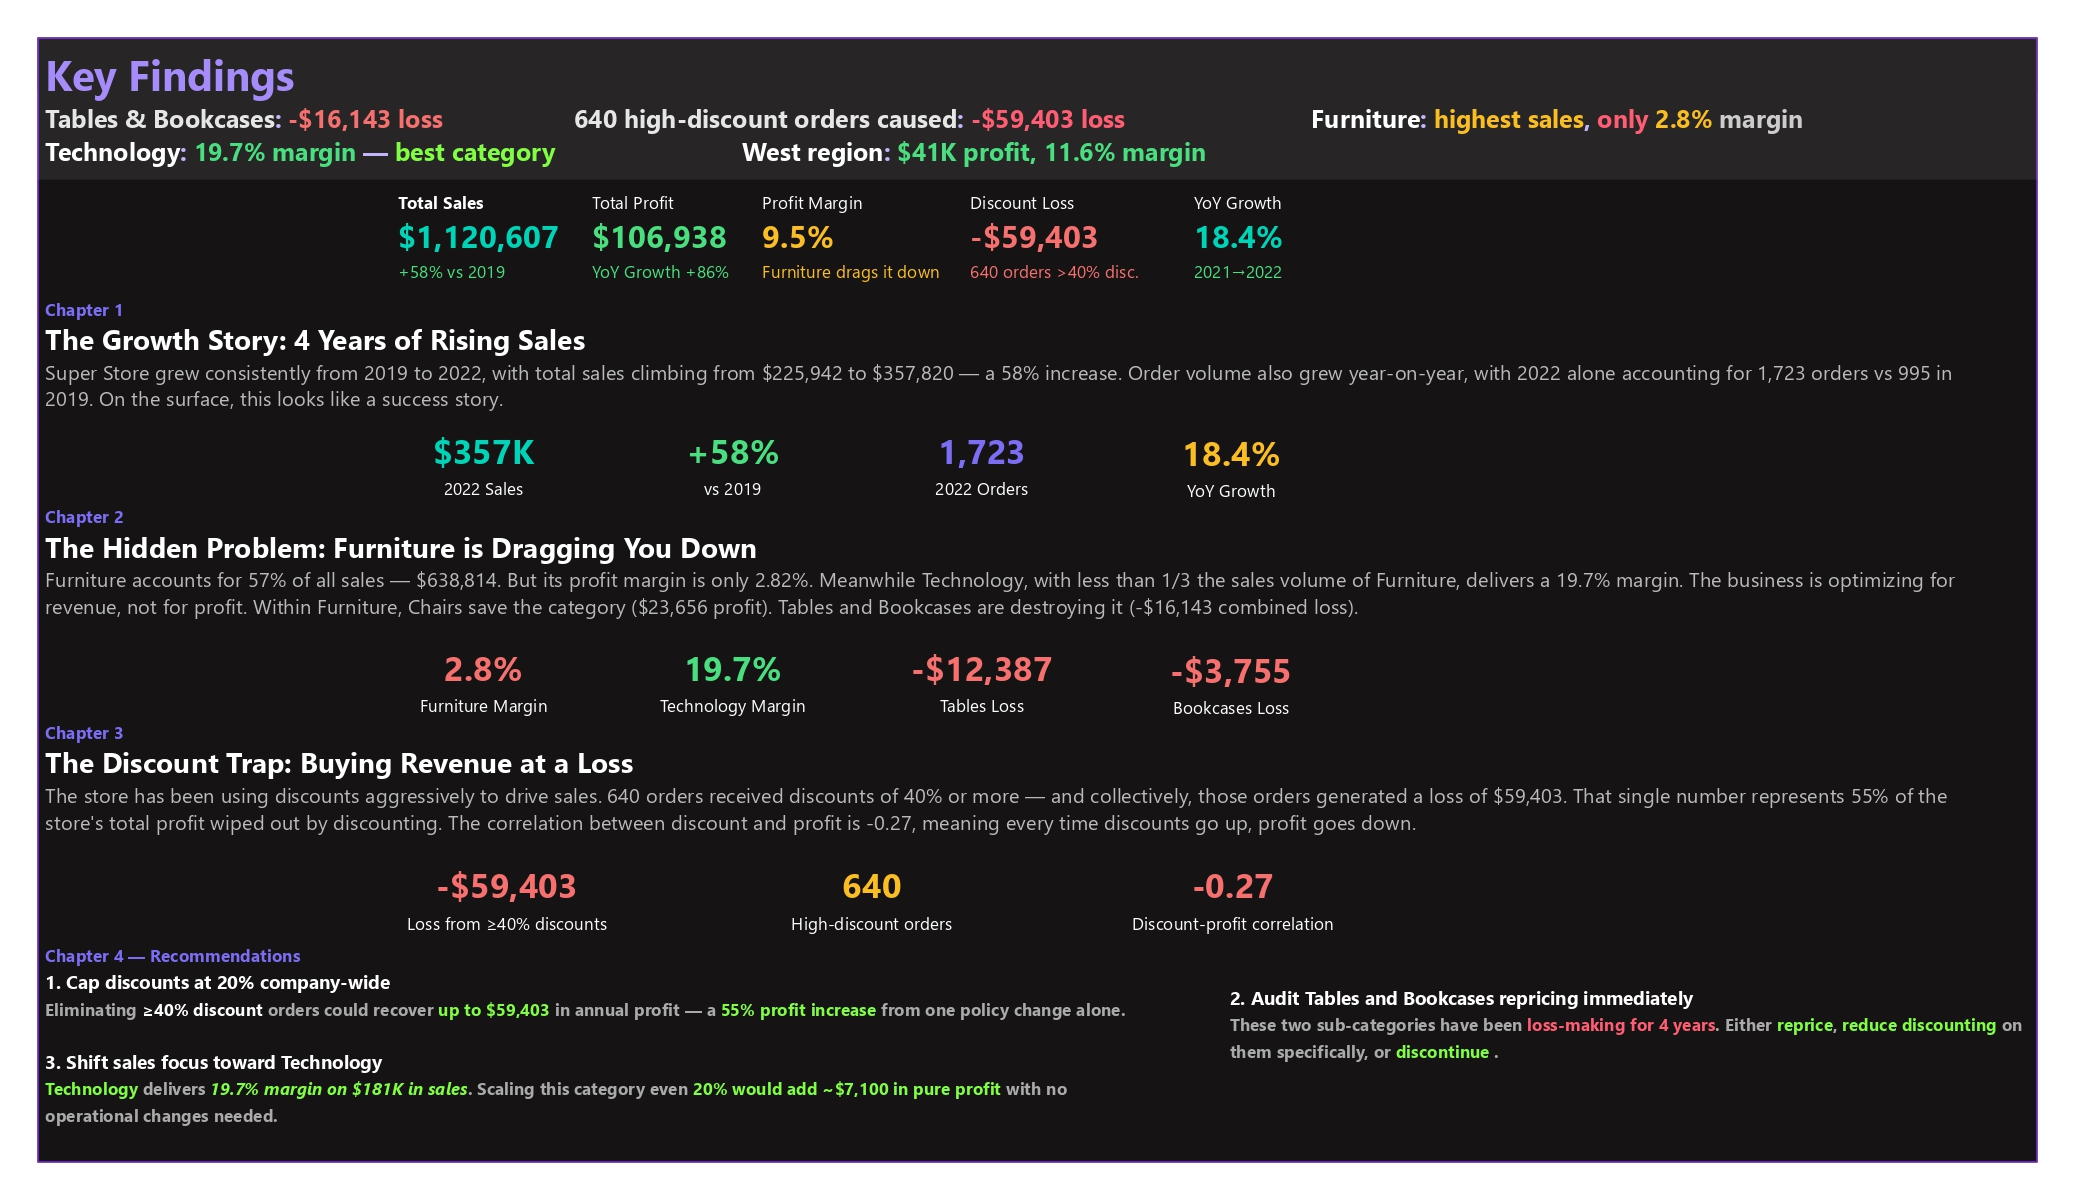

What the dashboard file says about the page in this screenshot:
{"tool":"powerbi","page":{"name":"Story telling","canvas":[1280,720],"ordinal":3},"visuals":[{"type":"textbox","box":[219.4,243.6,133.4,77],"z":0,"group":"g2"},{"type":"textbox","box":[219.4,383.3,133.4,77],"z":0,"group":"g3"},{"type":"textbox","box":[203.3,522.2,194.6,57.5],"z":0,"group":"g4"},{"type":"textbox","box":[0,573.1,714.6,146.9],"z":0,"group":"g1"},{"type":"group","id":"g1","title":"Group 3","box":[0,0,1279.7,720],"z":1000},{"type":"textbox","box":[225.7,91.3,133.4,77],"z":1000,"group":"g5"},{"type":"group","id":"g2","title":"Group 1","box":[219.4,243.6,611.6,77.9],"z":1000,"group":"g1"},{"type":"textbox","box":[378.8,243.6,133.4,77],"z":1000,"group":"g2"},{"type":"textbox","box":[378.8,383.3,133.4,77],"z":1000,"group":"g3"},{"type":"textbox","box":[438.6,522.1,191.6,58.1],"z":1000,"group":"g4"},{"type":"textbox","box":[350.2,91.3,133.4,77],"z":2000,"group":"g5"},{"type":"textbox","box":[538.2,243.6,133.4,77],"z":2000,"group":"g2"},{"type":"group","id":"g3","title":"Group 1","box":[219.4,383.3,611.6,77.9],"z":2000,"group":"g1"},{"type":"textbox","box":[538.2,383.3,133.4,77],"z":2000,"group":"g3"},{"type":"textbox","box":[668.2,522.2,194.6,57.5],"z":2000,"group":"g4"},{"type":"textbox","box":[458.5,91.3,133.4,77],"z":3000,"group":"g5"},{"type":"textbox","box":[697.6,244.5,133.4,77],"z":3000,"group":"g2"},{"type":"textbox","box":[697.6,384.2,133.4,77],"z":3000,"group":"g3"},{"type":"group","id":"g4","title":"Group 1","box":[203.3,522.1,891.9,58.2],"z":3000,"group":"g1"},{"type":"textbox","box":[900.7,522.8,194.6,57.5],"z":3000,"group":"g4"},{"type":"textbox","box":[0,0,1279.7,91.3],"z":4000,"group":"g1"},{"type":"textbox","box":[592,91.3,133.4,77],"z":4000,"group":"g5"},{"type":"group","id":"g5","title":"Group 2","box":[225.7,91.3,642.1,77],"z":5000,"group":"g1"},{"type":"textbox","box":[734.4,91.3,133.4,77],"z":5000,"group":"g5"},{"type":"textbox","box":[0,158.5,1251,91.3],"z":6000,"group":"g1"},{"type":"textbox","box":[0,291.9,1251,91.3],"z":7000,"group":"g1"},{"type":"textbox","box":[0,429.9,1251,91.3],"z":8000,"group":"g1"},{"type":"textbox","box":[757.6,600,522.1,91.3],"z":9000,"group":"g1"}]}

Visuals, with their boxes on the page's 1280x720 design canvas (x1, y1, x2, y2). These are canvas units, not pixel positions in the 2075x1200 screenshot, which may show the page scaled, cropped or inside an application window:
textbox: Rect(219, 244, 353, 321)
textbox: Rect(219, 383, 353, 460)
textbox: Rect(203, 522, 398, 580)
textbox: Rect(0, 573, 715, 720)
"Group 3" group: Rect(0, 0, 1280, 720)
textbox: Rect(226, 91, 359, 168)
"Group 1" group: Rect(219, 244, 831, 322)
textbox: Rect(379, 244, 512, 321)
textbox: Rect(379, 383, 512, 460)
textbox: Rect(439, 522, 630, 580)
textbox: Rect(350, 91, 484, 168)
textbox: Rect(538, 244, 672, 321)
"Group 1" group: Rect(219, 383, 831, 461)
textbox: Rect(538, 383, 672, 460)
textbox: Rect(668, 522, 863, 580)
textbox: Rect(458, 91, 592, 168)
textbox: Rect(698, 244, 831, 322)
textbox: Rect(698, 384, 831, 461)
"Group 1" group: Rect(203, 522, 1095, 580)
textbox: Rect(901, 523, 1095, 580)
textbox: Rect(0, 0, 1280, 91)
textbox: Rect(592, 91, 725, 168)
"Group 2" group: Rect(226, 91, 868, 168)
textbox: Rect(734, 91, 868, 168)
textbox: Rect(0, 158, 1251, 250)
textbox: Rect(0, 292, 1251, 383)
textbox: Rect(0, 430, 1251, 521)
textbox: Rect(758, 600, 1280, 691)
